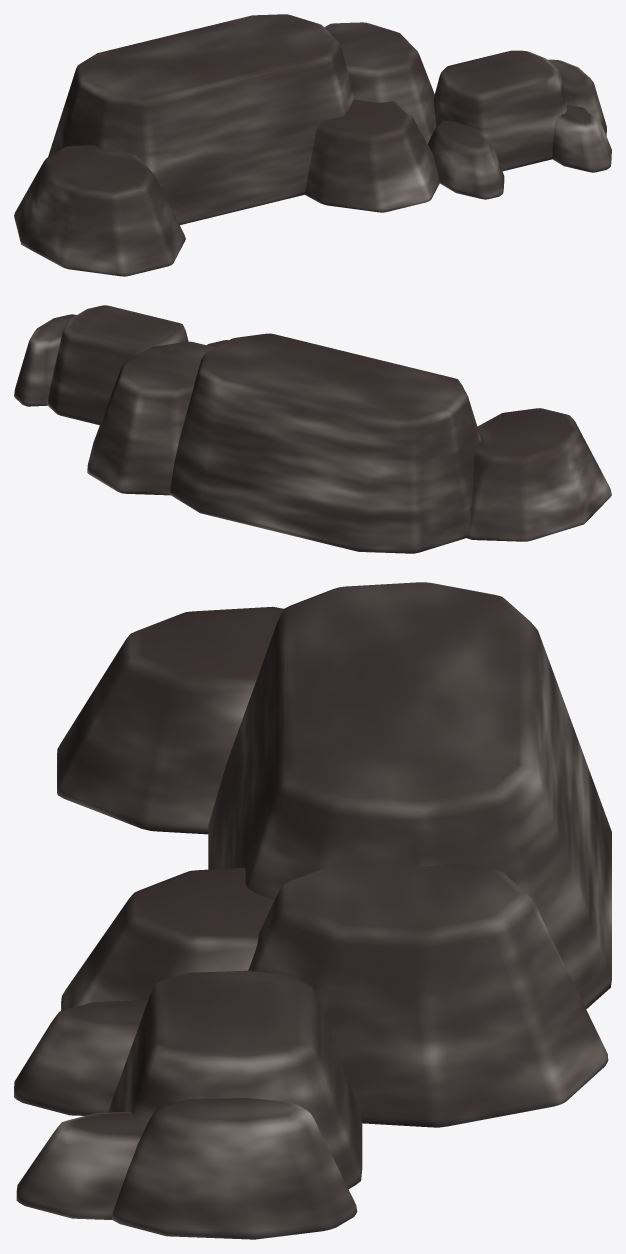
The model's file is Mesa.glb.
The picture shows the model from 3 angles, top to bottom: view 1: azimuth 30°, elevation 25°; view 2: azimuth 150°, elevation 25°; view 3: azimuth 270°, elevation 25°; orthographic projection. The views are drawn at different scales.
Visible parts, largest first — view 1: Cylinder.003; view 2: Cylinder.003; view 3: Cylinder.003.
Part boxes in pixels (x1,y1,x2,y2): Cylinder.003: (14, 14, 611, 276); Cylinder.003: (14, 305, 611, 553); Cylinder.003: (14, 582, 611, 1239).
Bounding box in the file's own units: 30.23 × 5.98 × 14.35.
1 material, 1 textured.
